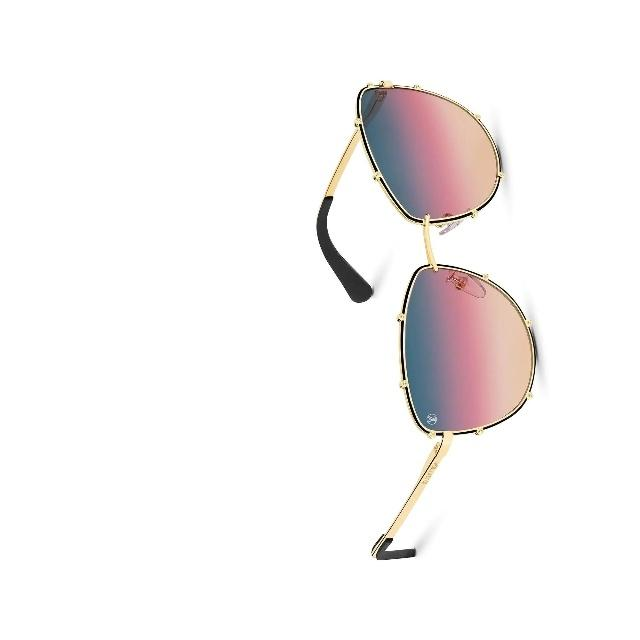Sunglasses: (259, 56, 569, 578)
